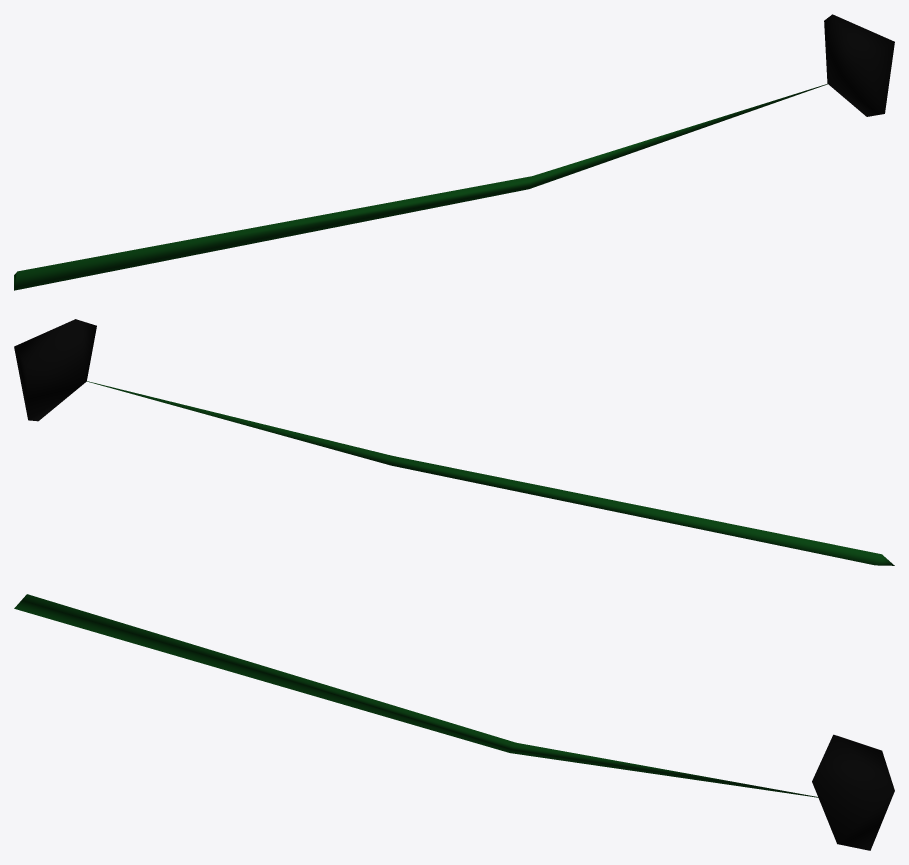
The model's file is echinaceaFlowerRotten.glb.
3 views of the same model, one above another, from view 1: azimuth 30°, elevation 25°; view 2: azimuth 150°, elevation 25°; view 3: azimuth 330°, elevation 25° (orthographic). The views are drawn at different scales.
Parts seen in each view (by area): view 1: Icosphere; view 2: Icosphere; view 3: Icosphere.
Part boxes in pixels (x1,y1,x2,y2): Icosphere: (14, 14, 894, 290); Icosphere: (14, 319, 894, 565); Icosphere: (14, 594, 894, 850).
Bounding box in the file's own units: 0.5925 × 0.0715 × 0.0646.
